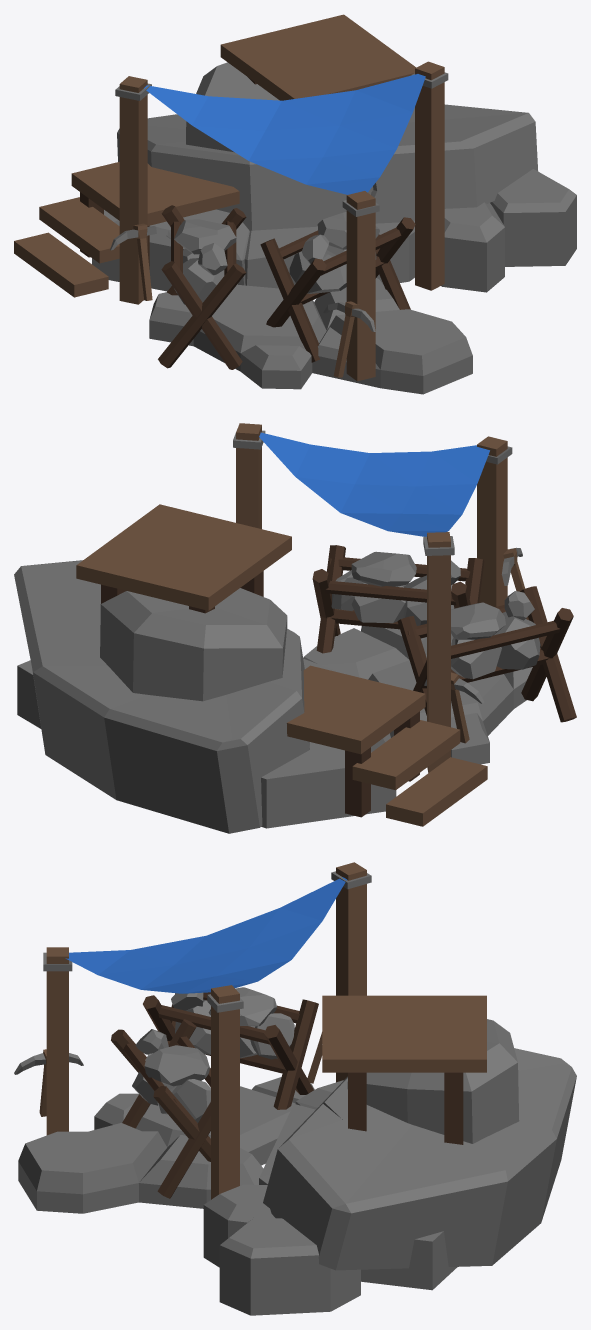
File: Quarry LvL 2.fbx
3 views of the same model, one above another, from view 1: azimuth 30°, elevation 25°; view 2: azimuth 150°, elevation 25°; view 3: azimuth 270°, elevation 25° (orthographic). The views are drawn at different scales.
Visible parts, largest first — view 1: Quarry, TeamColorObj.003; view 2: Quarry, TeamColorObj.003; view 3: Quarry, TeamColorObj.003.
Part boxes in pixels (left/top/right/bottom): Quarry: left=14, top=14, right=576, bottom=394; TeamColorObj.003: left=144, top=74, right=425, bottom=194; Quarry: left=14, top=423, right=576, bottom=833; TeamColorObj.003: left=259, top=432, right=489, bottom=536; Quarry: left=14, top=862, right=576, bottom=1315; TeamColorObj.003: left=65, top=877, right=346, bottom=993.
Bounding box in the file's own units: 161 × 79.12 × 165.
